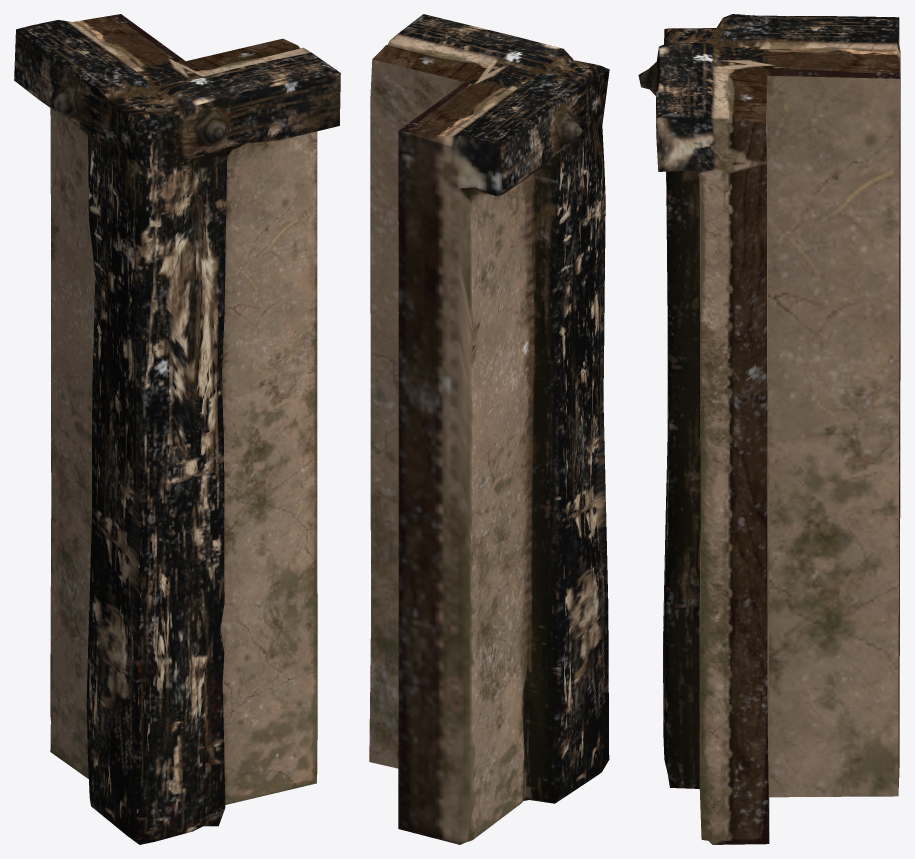
File: Medieval_WallsTall_CornerNarrow.FBX
3 renders of one model, left to right at view 1: azimuth 30°, elevation 25°; view 2: azimuth 150°, elevation 25°; view 3: azimuth 270°, elevation 25°, orthographic. The views are drawn at different scales.
Parts seen in each view (by area): view 1: Medieval_WallsTall_CornerNarrow_LOD0; view 2: Medieval_WallsTall_CornerNarrow_LOD0; view 3: Medieval_WallsTall_CornerNarrow_LOD0.
Boxes of the visible parts, bbox=[...] form: Medieval_WallsTall_CornerNarrow_LOD0: bbox=[14, 14, 340, 844]; Medieval_WallsTall_CornerNarrow_LOD0: bbox=[369, 14, 609, 844]; Medieval_WallsTall_CornerNarrow_LOD0: bbox=[638, 14, 900, 844].
Size of what is drawn, in the model's own units: 1.46 by 4.57 by 1.48.
